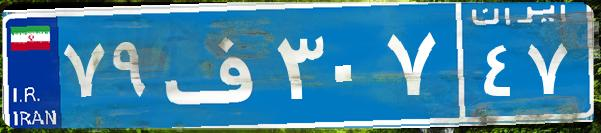0: (330, 28, 385, 110)
3: (273, 28, 330, 110)
4: (475, 38, 525, 113)
7: (385, 28, 445, 110), (57, 26, 110, 107), (525, 38, 570, 115)
9: (110, 28, 158, 105)
ف: (158, 15, 273, 115)
